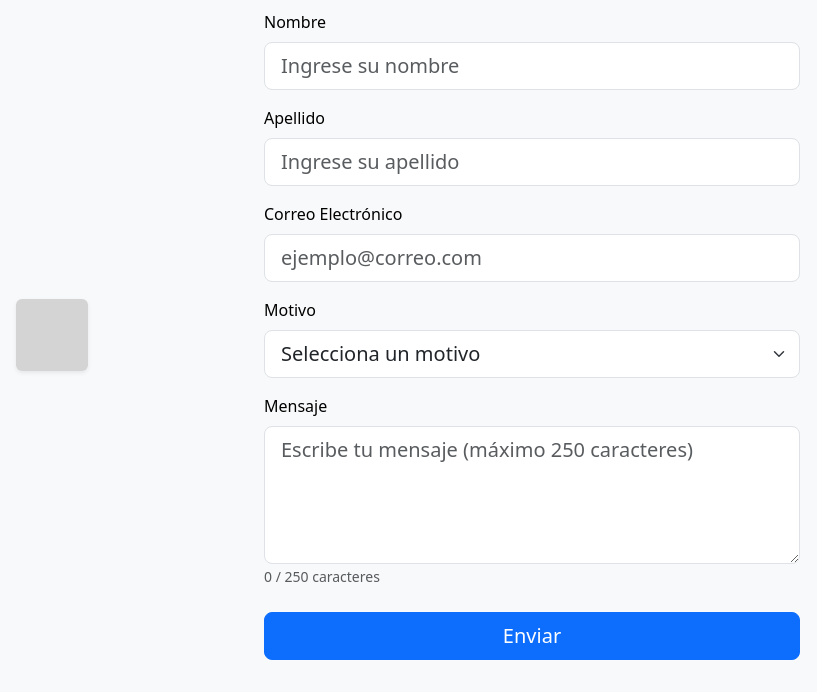
Test: Componente Contacto › muestra errores si los campos obligatorios están vacíos al enviar
The image size is (817, 692).
(page scrolled)
Click the button "Enviar" at (532, 636), box [264,612,800,660]
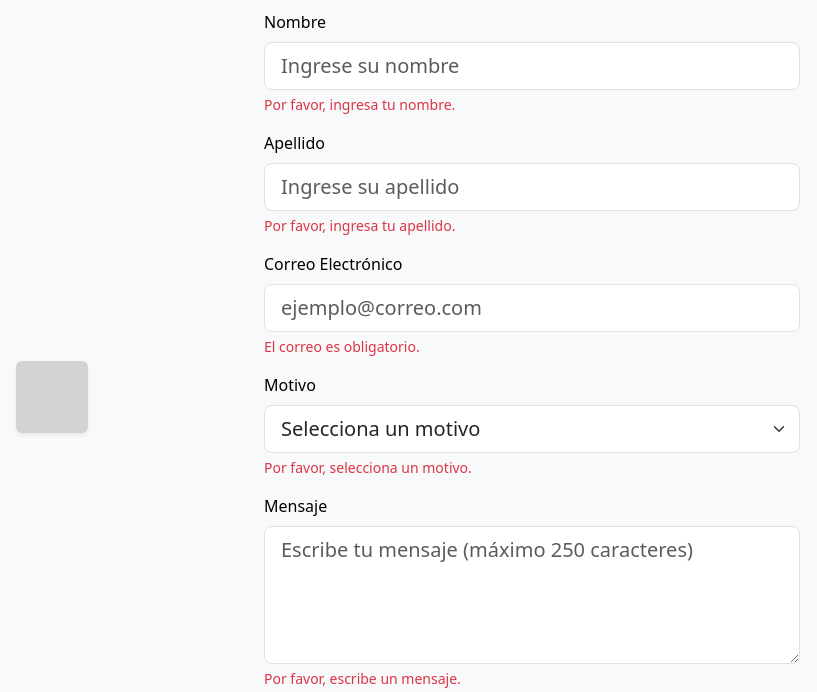
Now the text "Por favor, ingresa tu nombre." is shown, box [264,95,455,114]
Now the text "Por favor, ingresa tu apellido." is shown, box [264,216,455,235]
Now the text "El correo es obligatorio." is shown, box [264,337,420,356]
